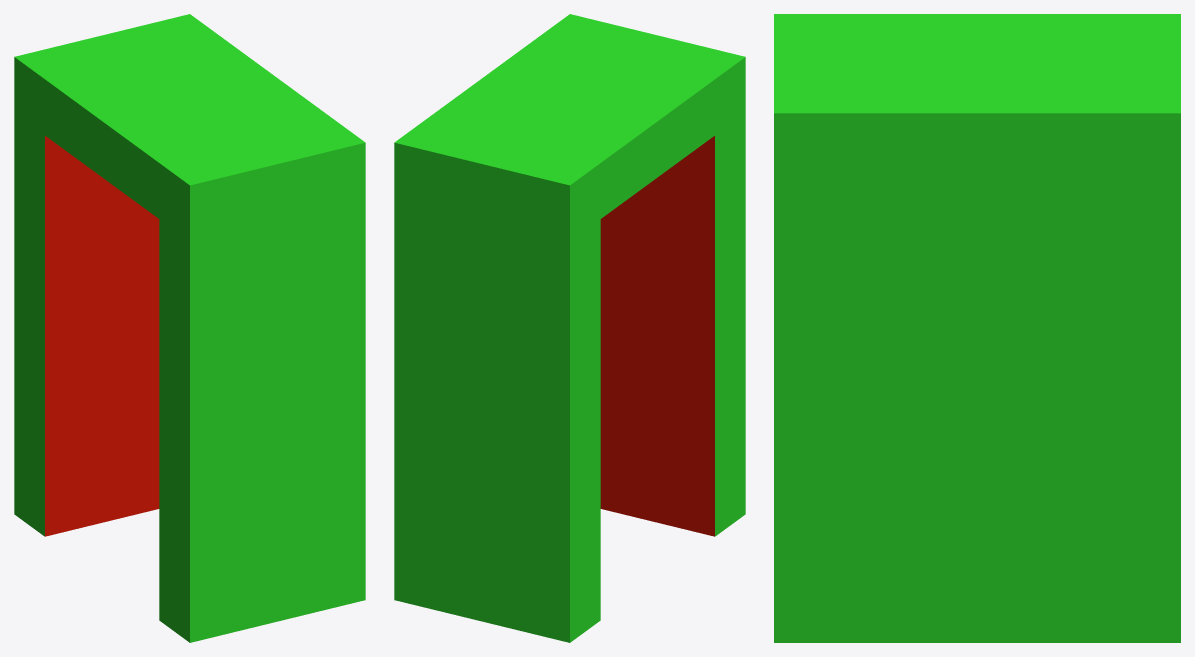
The model's file is ConveyorEntrance.fbx.
3 renders of one model, left to right at view 1: azimuth 30°, elevation 25°; view 2: azimuth 150°, elevation 25°; view 3: azimuth 270°, elevation 25°, orthographic. The views are drawn at different scales.
Visible parts, largest first — view 1: Conveyor Entrance; view 2: Conveyor Entrance; view 3: Conveyor Entrance.
Part boxes in pixels (x1=…): Conveyor Entrance: x1=14, y1=14, x2=365, y2=642; Conveyor Entrance: x1=394, y1=14, x2=745, y2=642; Conveyor Entrance: x1=774, y1=14, x2=1180, y2=642.
Bounding box in the file's own units: 428 × 1065 × 742.
